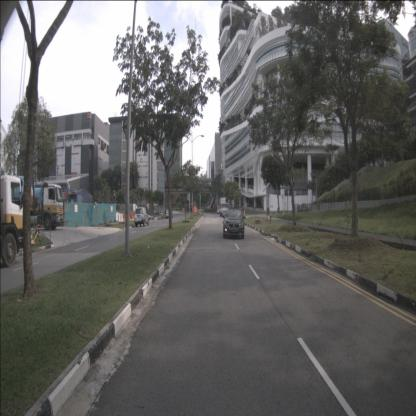barrier: (118, 213, 124, 223), (122, 212, 126, 222), (130, 211, 134, 219), (116, 212, 119, 222)
